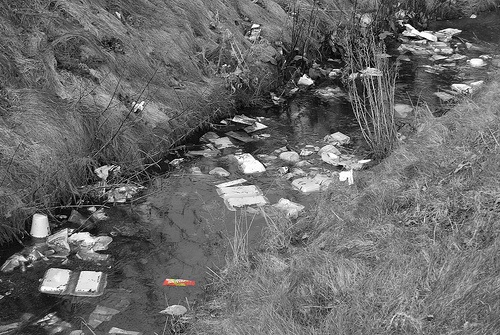rubble: (215, 11, 489, 218), (18, 177, 212, 326)
